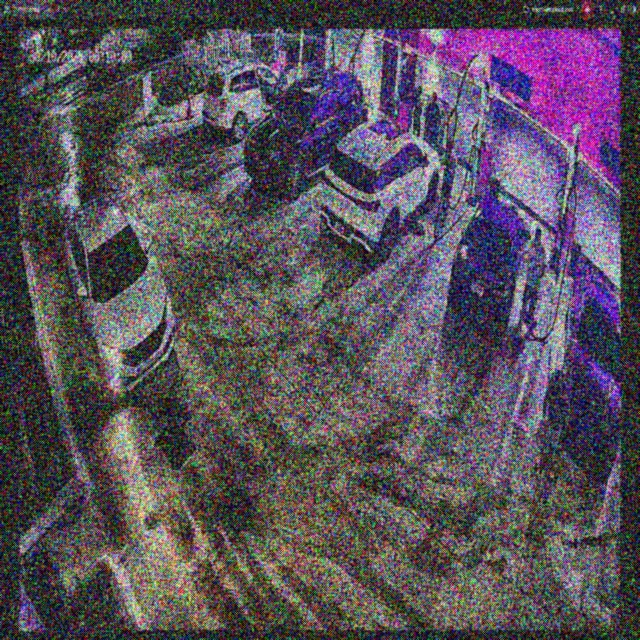Car: (63, 195, 176, 393), (322, 119, 438, 264), (242, 70, 368, 188), (449, 195, 529, 335)
